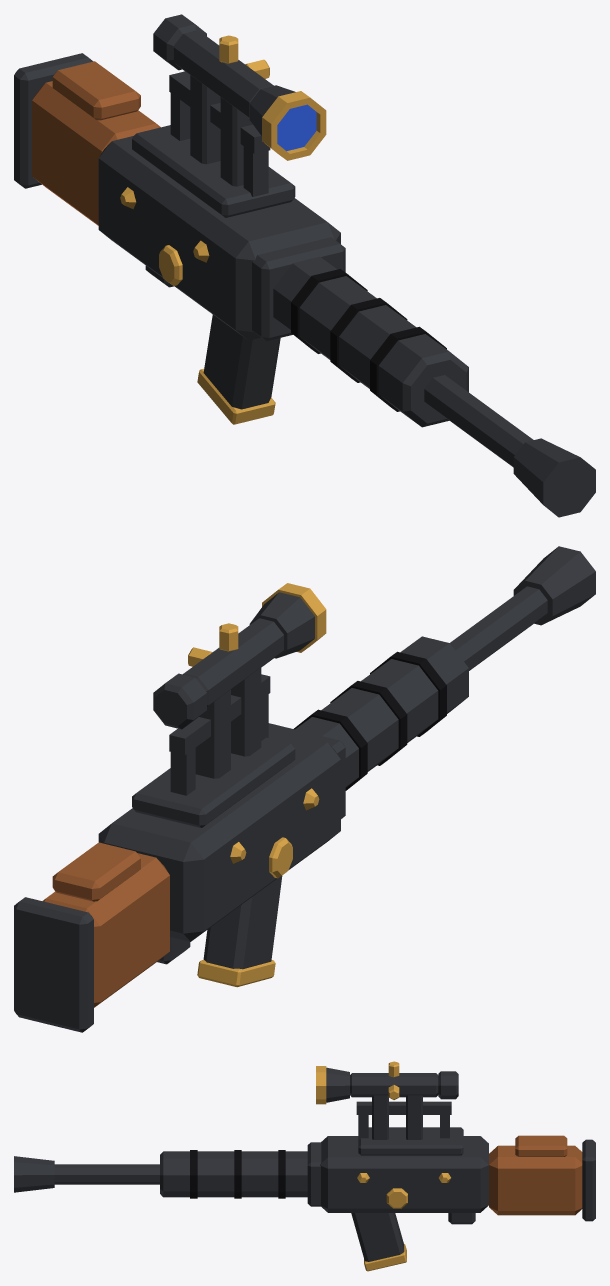
The model's file is SniperB.obj.
3 views of the same model, one above another, from view 1: azimuth 30°, elevation 25°; view 2: azimuth 150°, elevation 25°; view 3: azimuth 270°, elevation 25° (orthographic). The views are drawn at different scales.
Parts seen in each view (by area): view 1: SniperB; view 2: SniperB; view 3: SniperB.
Part boxes in pixels (x1=…): SniperB: x1=14, y1=14, x2=595, y2=517; SniperB: x1=14, y1=546, x2=595, y2=1032; SniperB: x1=14, y1=1061, x2=595, y2=1271.
Size of the model in its own units: 0.2742 by 0.792 by 2.06.
